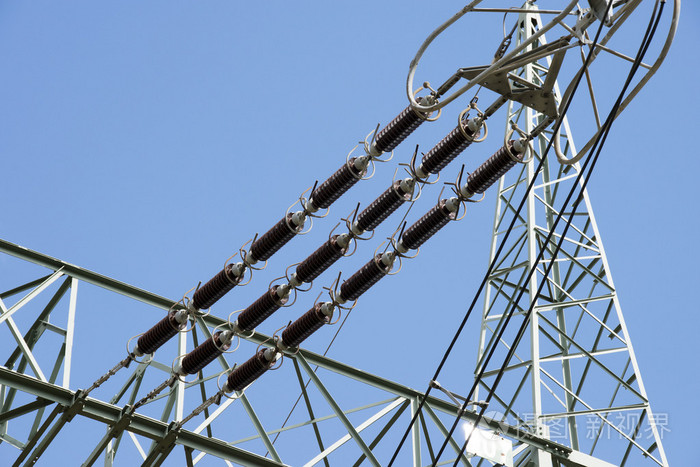insulator: (234, 286, 287, 332), (422, 126, 472, 174), (278, 305, 332, 349), (379, 103, 426, 152), (469, 148, 519, 194), (298, 237, 351, 279), (344, 253, 393, 298), (313, 161, 363, 205), (401, 210, 452, 252), (137, 315, 185, 358), (193, 270, 244, 310), (225, 353, 277, 392), (252, 219, 302, 259), (357, 191, 406, 230), (183, 336, 228, 371)
